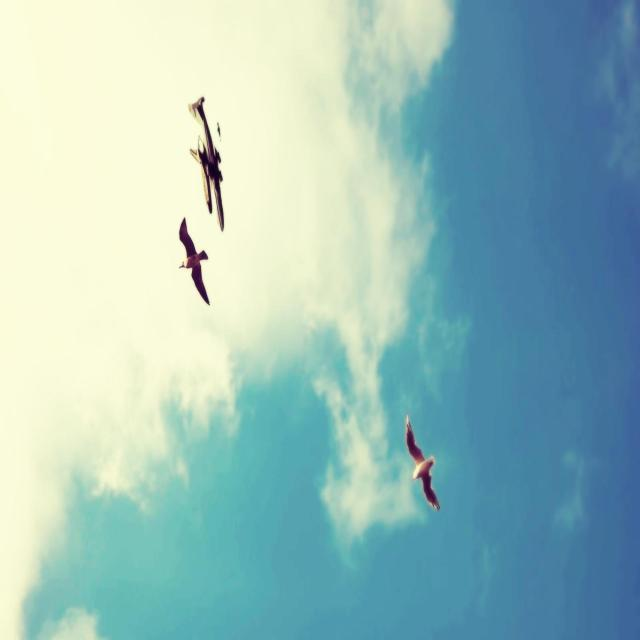airplane: (188, 96, 225, 231)
